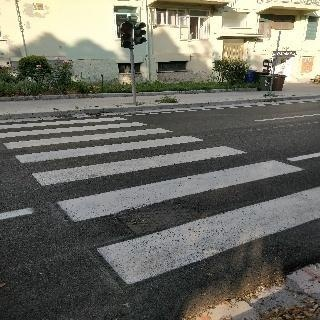road_crosswalk: (2, 112, 317, 295)
